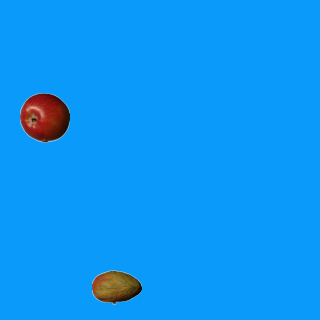Apple Braeburn: (19, 92, 69, 142)
Papaya: (91, 262, 141, 312)
